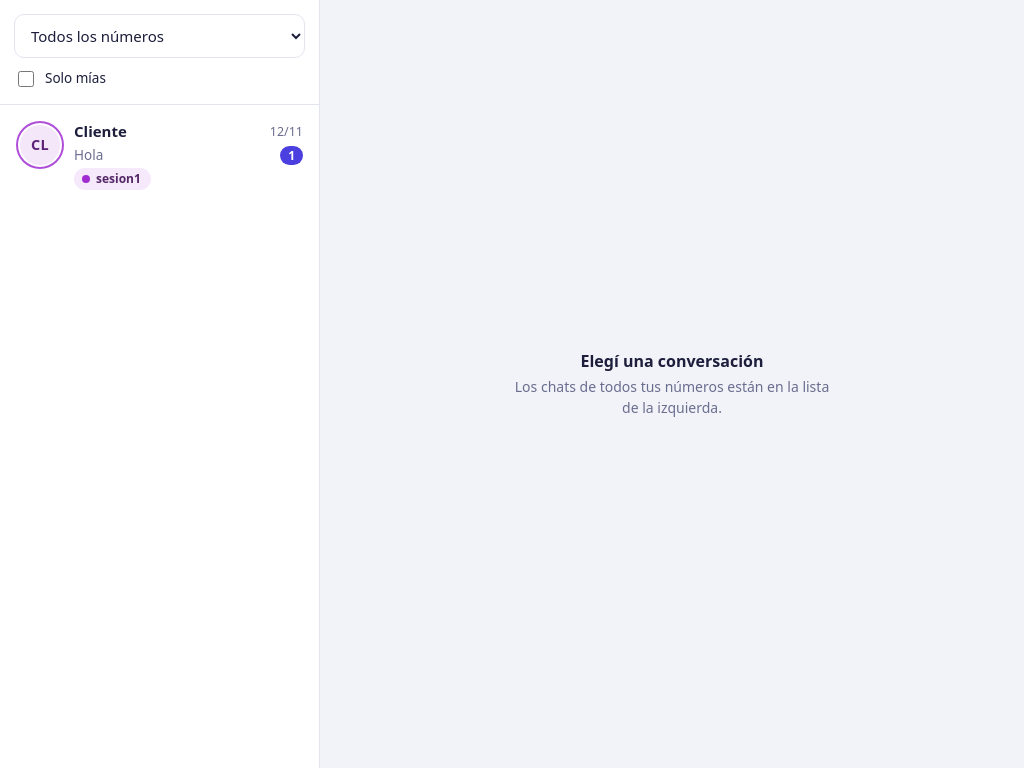
Test case: Chat › sobrevive a enviar un mensaje y a los eventos en tiempo real posteriores
Click the text "Cliente" at {"x": 100, "y": 132}, box [74,121,127,143]
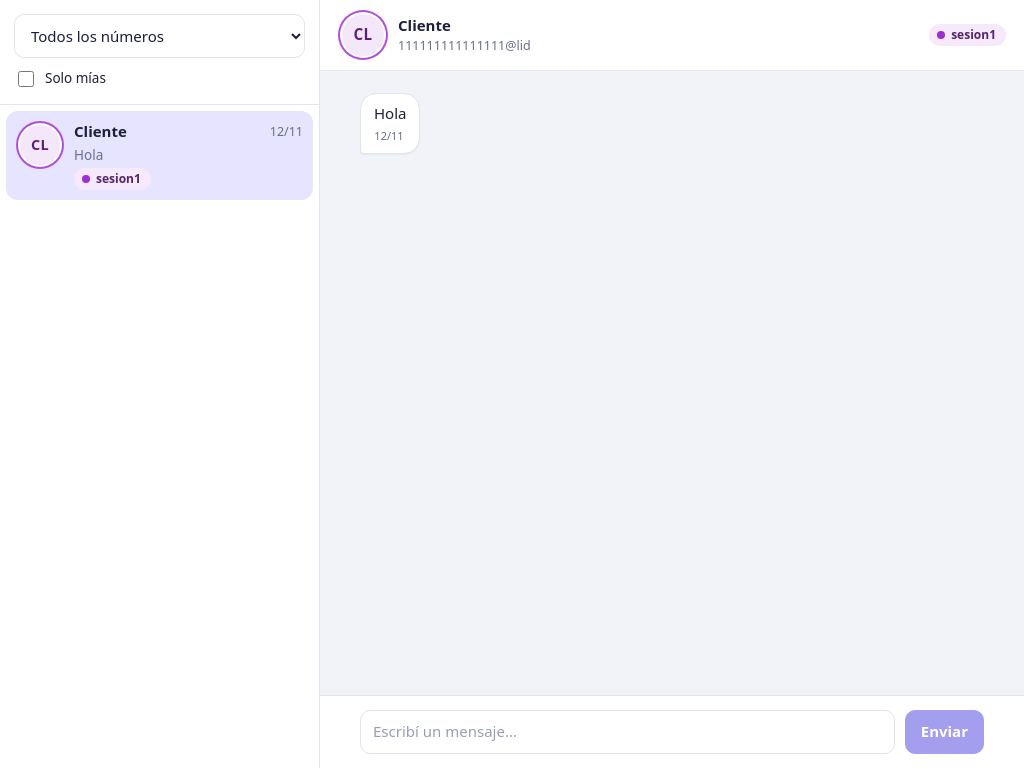
Now the text "Hola" is shown, box [374,103,406,123]
Type "hola como estas" into the field with placeholder "Escribí un mensaje…" at {"x": 627, "y": 732}, box [360,710,895,754]
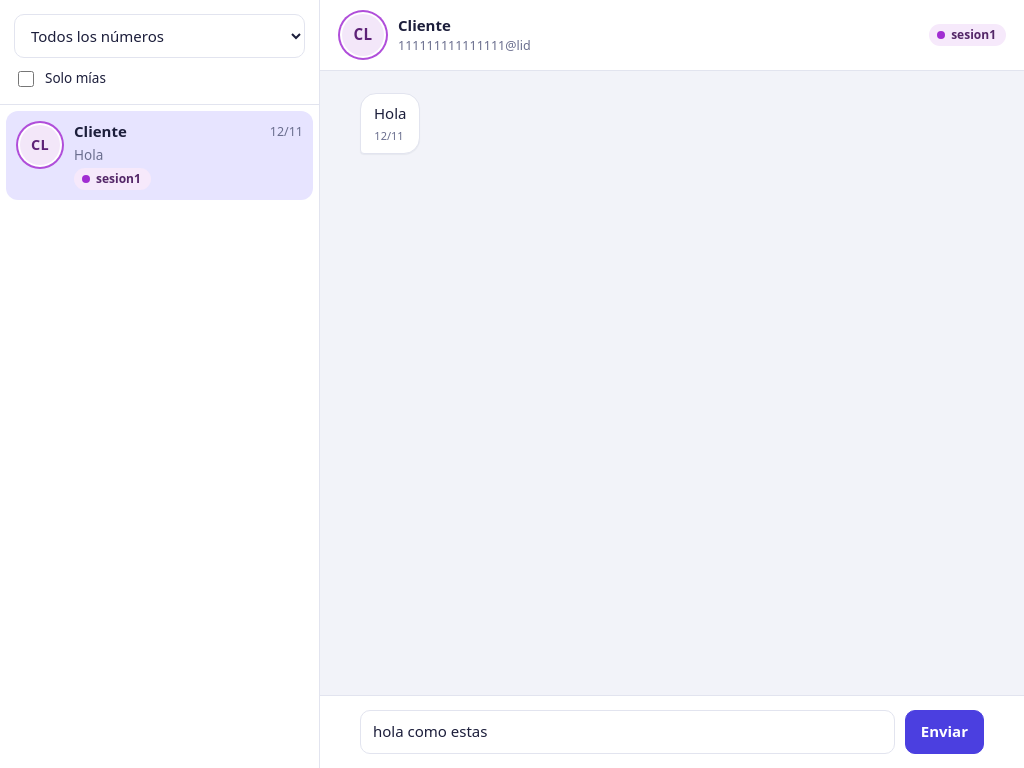
Click the button "Enviar" at {"x": 944, "y": 732}, box [905,710,984,754]
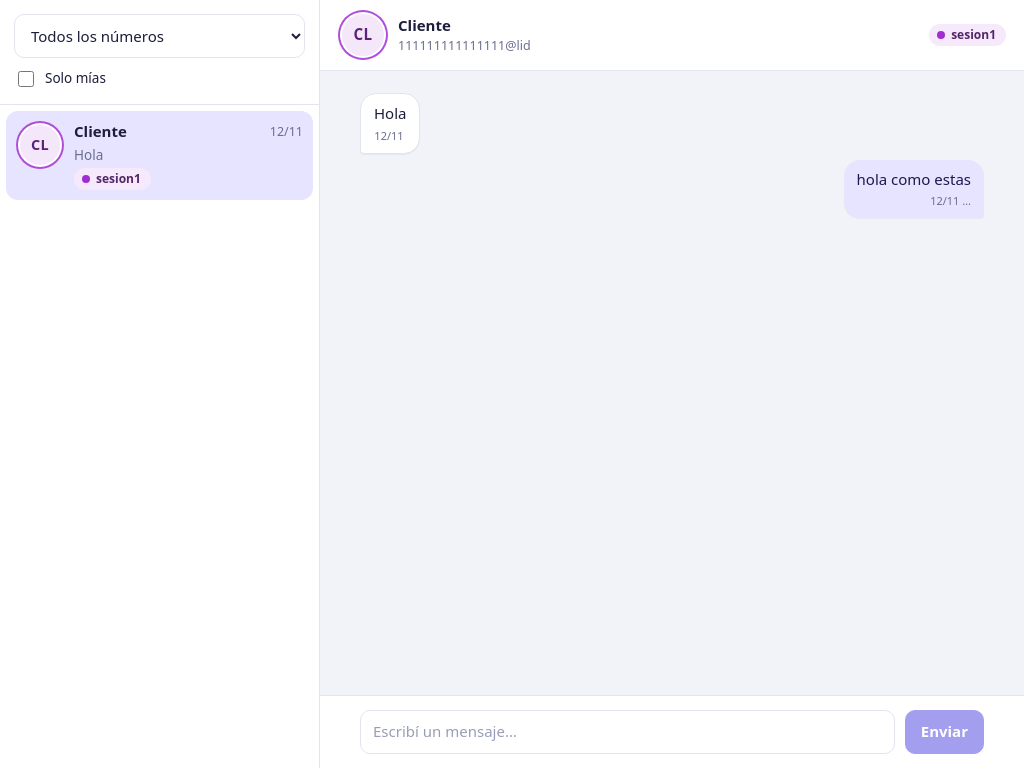
Now the text "hola como estas 12/11 …" is shown, box [844,160,984,218]
